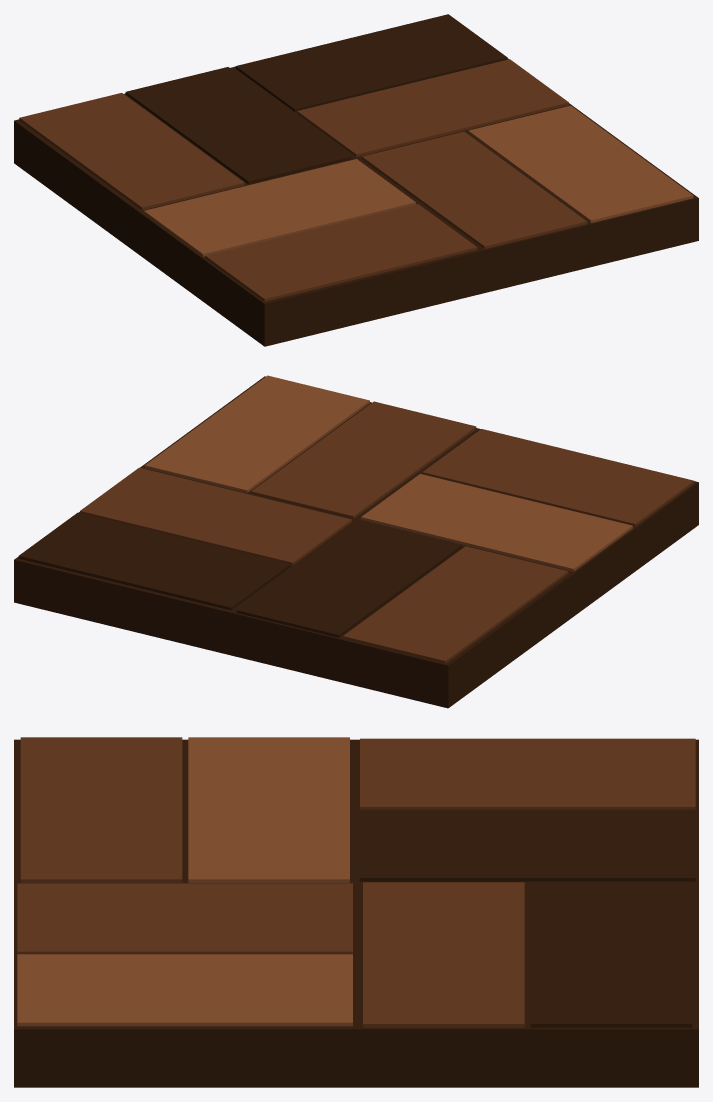
Rendered from floor_wood.glb.
3 views of the same model, one above another, from view 1: azimuth 30°, elevation 25°; view 2: azimuth 150°, elevation 25°; view 3: azimuth 270°, elevation 25° (orthographic). The views are drawn at different scales.
Parts seen in each view (by area): view 1: floor_wood; view 2: floor_wood; view 3: floor_wood.
Part boxes in pixels (<box>): floor_wood: <box>14,14,698,346</box>; floor_wood: <box>14,375,698,708</box>; floor_wood: <box>14,737,698,1087</box>.
Size of the model in its own units: 1 by 0.1 by 1.
